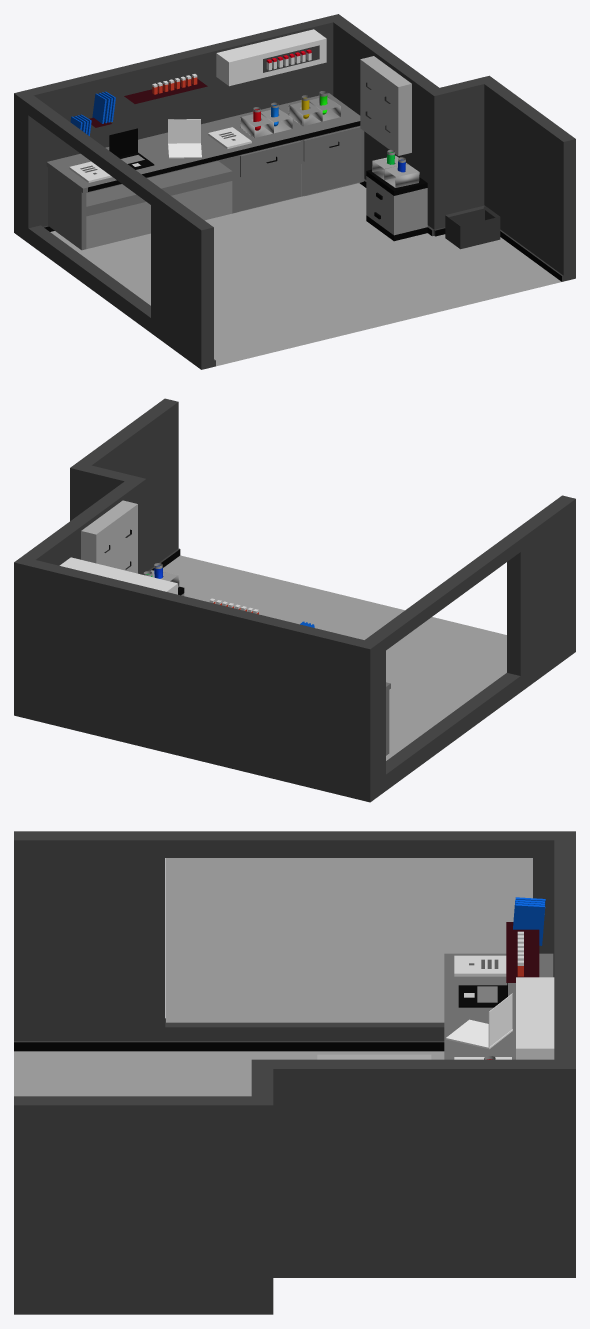
File: Laboo.gltf
3 views of the same model, one above another, from view 1: azimuth 30°, elevation 25°; view 2: azimuth 150°, elevation 25°; view 3: azimuth 270°, elevation 25° (orthographic). The views are drawn at different scales.
Visible parts, largest first — view 1: Walls, Flour, Desk, Plane.002, Cube, Desk_2, Plane.001, Desk.001, Plane.006, Flasks, Flasks.001, Flasks.002 (+8 smaller); view 2: Walls, Flour, Plane.002, Cube; view 3: Walls, Window, Flour, Trim, Desk, Cube, Plane.006, Plane.004, Book, Plane.005, Plane.003, Plane.002.
Boxes of the visible parts, <box> form: Walls: <box>14,14,575,369</box>; Flour: <box>50,183,561,366</box>; Desk: <box>46,93,364,250</box>; Plane.002: <box>360,56,411,149</box>; Cube: <box>216,29,326,86</box>; Desk_2: <box>366,176,427,235</box>; Plane.001: <box>445,205,500,249</box>; Desk.001: <box>88,121,360,191</box>; Plane.006: <box>168,119,201,158</box>; Flasks: <box>288,91,340,126</box>; Flasks.001: <box>240,102,292,138</box>; Flasks.002: <box>372,150,419,187</box>; Walls: <box>14,398,575,802</box>; Flour: <box>163,555,506,760</box>; Plane.002: <box>81,500,137,573</box>; Cube: <box>59,557,177,594</box>; Walls: <box>14,831,575,1314</box>; Window: <box>166,858,532,1022</box>; Flour: <box>14,1051,444,1096</box>; Trim: <box>14,1042,444,1051</box>; Desk: <box>444,953,553,1059</box>; Cube: <box>516,977,554,1059</box>; Plane.006: <box>446,993,512,1049</box>; Plane.004: <box>506,922,539,982</box>; Book: <box>454,955,506,976</box>; Plane.005: <box>513,899,545,945</box>; Plane.003: <box>458,983,507,1007</box>; Plane.002: <box>317,1054,431,1059</box>.
Bounding box in the file's own units: 2 × 0.7158 × 1.73.
